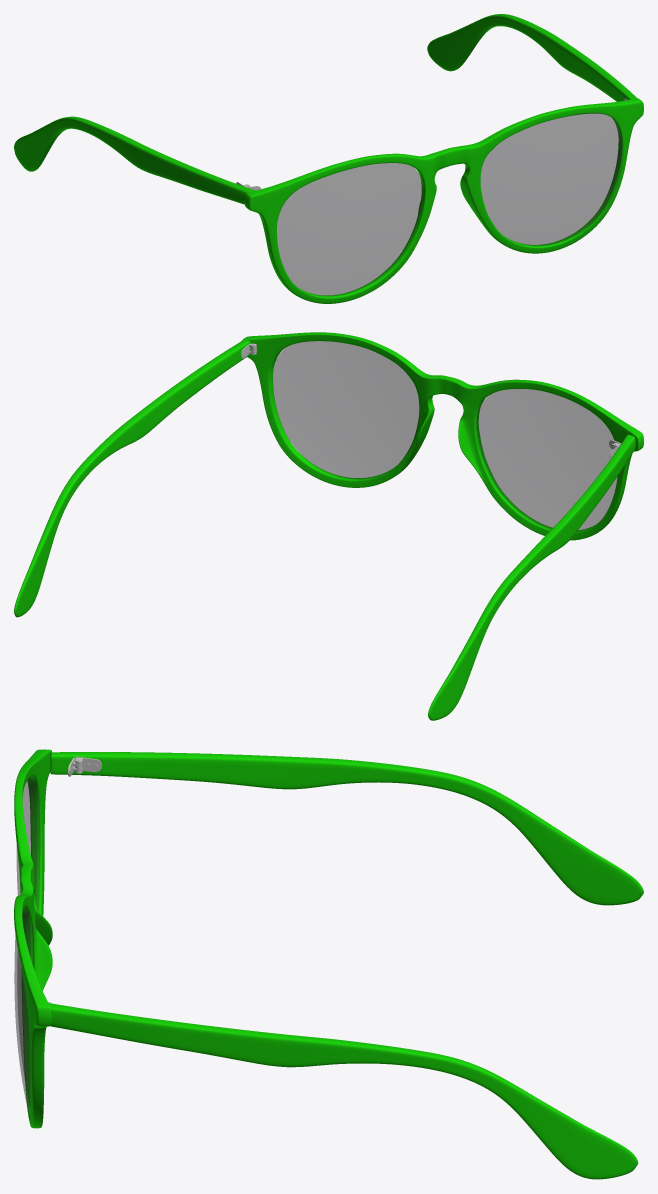
The model's file is green.glb.
3 views of the same model, one above another, from view 1: azimuth 30°, elevation 25°; view 2: azimuth 150°, elevation 25°; view 3: azimuth 270°, elevation 25° (orthographic). The views are drawn at different scales.
Visible parts, largest first — view 1: Sphere002.001, Sphere001.001, Line001.001, Line003.001, Line002.001; view 2: Sphere001.001, Sphere002.001, Line001.001, Line002.001, Line003.001; view 3: Line002.001, Line003.001, Line001.001, Sphere001.001, Sphere002.001.
Part boxes in pixels (x1,y1,x2,y2): Sphere002.001: (277,163,422,295); Sphere001.001: (480,112,623,245); Line001.001: (244,98,643,303); Line003.001: (14,116,255,204); Line002.001: (427,14,636,101); Sphere001.001: (273,341,419,479); Sphere002.001: (476,389,617,531); Line001.001: (242,332,643,540); Line002.001: (14,340,250,617); Line003.001: (428,434,635,720); Line002.001: (49,1003,638,1179); Line003.001: (50,752,643,905); Line001.001: (14,749,52,1128); Sphere001.001: (14,906,34,1117); Sphere002.001: (16,777,39,910).
Bounding box in the file's own units: 0.1621 × 0.0513 × 0.1506.
